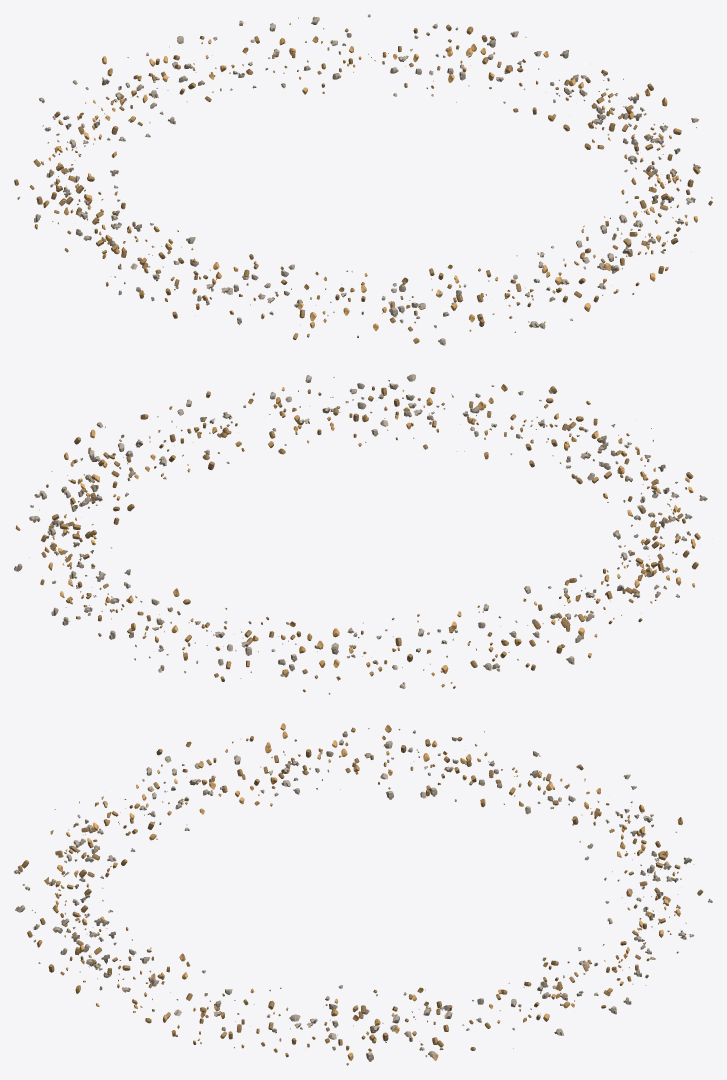
Rendered from rockRing.glb.
3 renders of one model, top to bottom at view 1: azimuth 30°, elevation 25°; view 2: azimuth 150°, elevation 25°; view 3: azimuth 270°, elevation 25°, orthographic.
Visible parts, largest first — view 1: planet.002, planet.003; view 2: planet.002, planet.003; view 3: planet.002, planet.003.
Boxes of the visible parts, <box> form: planet.002: <box>14,14,712,343</box>; planet.003: <box>15,14,712,345</box>; planet.002: <box>14,374,707,694</box>; planet.003: <box>15,376,706,694</box>; planet.002: <box>15,723,712,1065</box>; planet.003: <box>14,725,711,1064</box>.
Bounding box in the file's own units: 31.72 × 4.34 × 32.76.
1 material, 1 textured.
